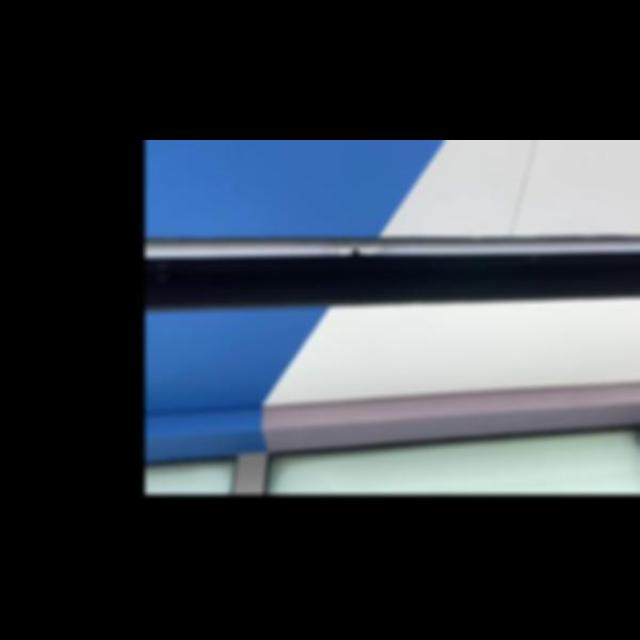Straight-Tube-Fluorescent-Lamp: (148, 202, 640, 284)
